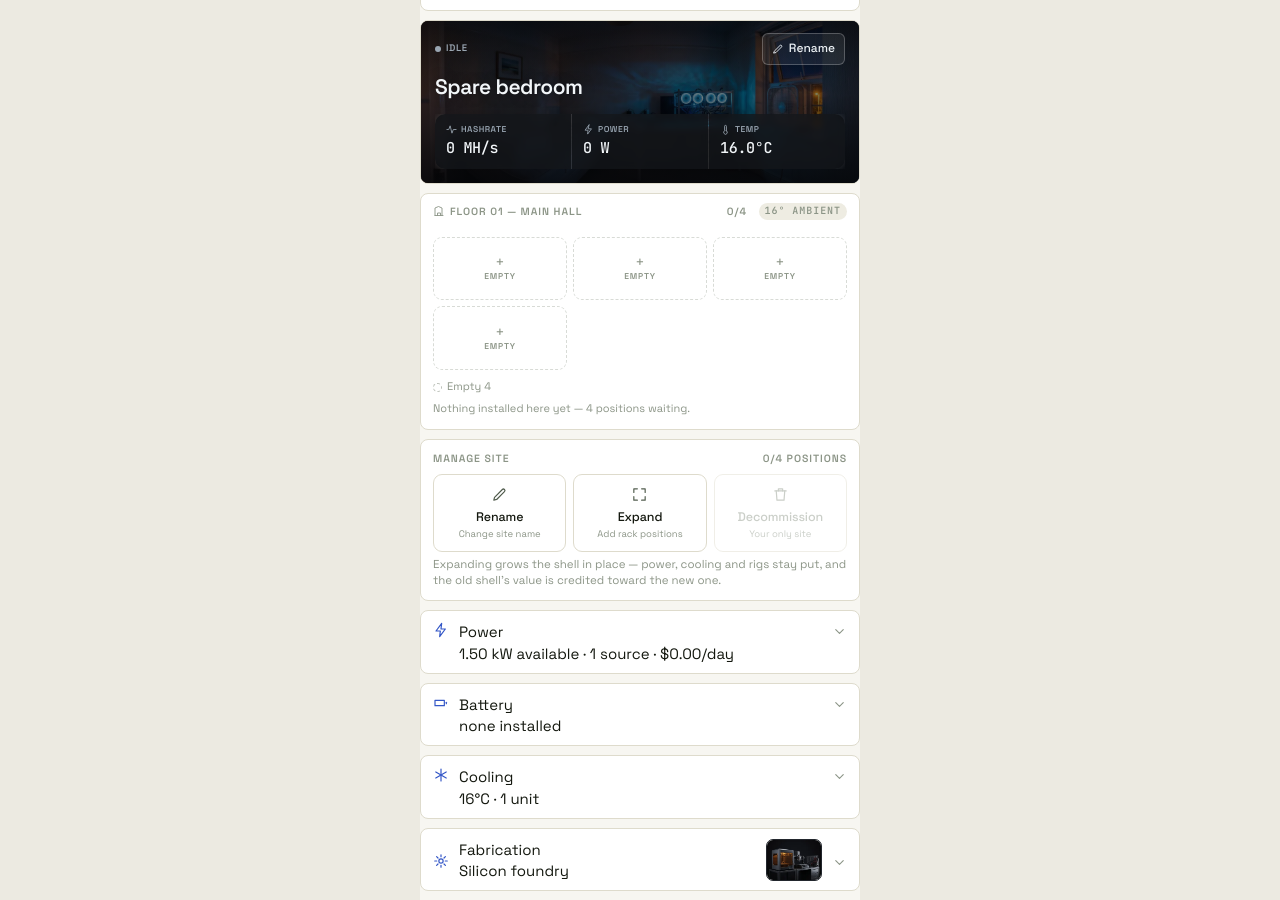
Test: SitesView › Fabrication › once at the top tier, the picker explains there is nothing higher instead of showing an empty sheet
(page scrolled)
Click the button with class "rig-hd" showing "Fabrication Silicon foundry" at (500, 849), box [421, 828, 859, 890]
(page scrolled)
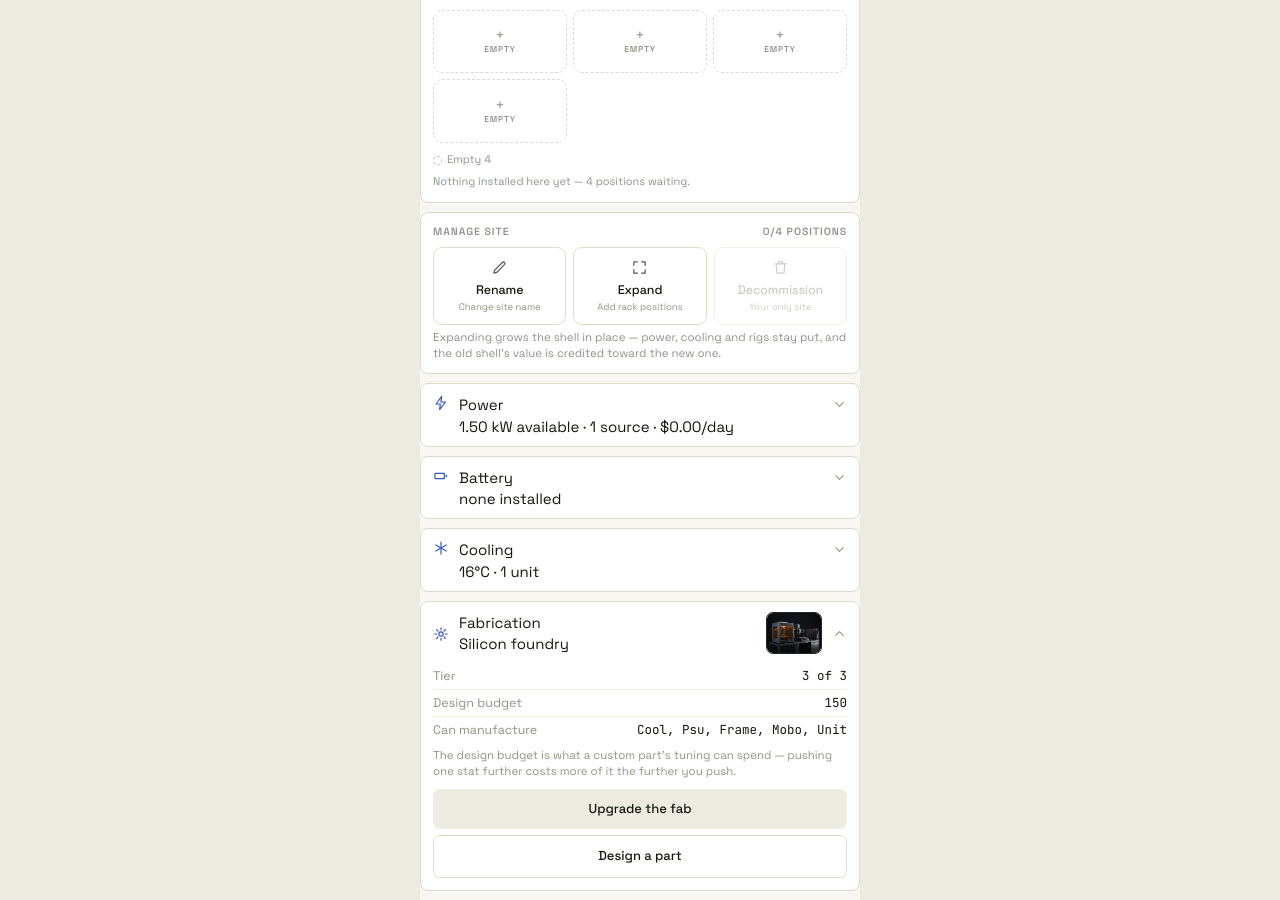
Click the button "Upgrade the fab" at (640, 809), box [433, 789, 847, 829]
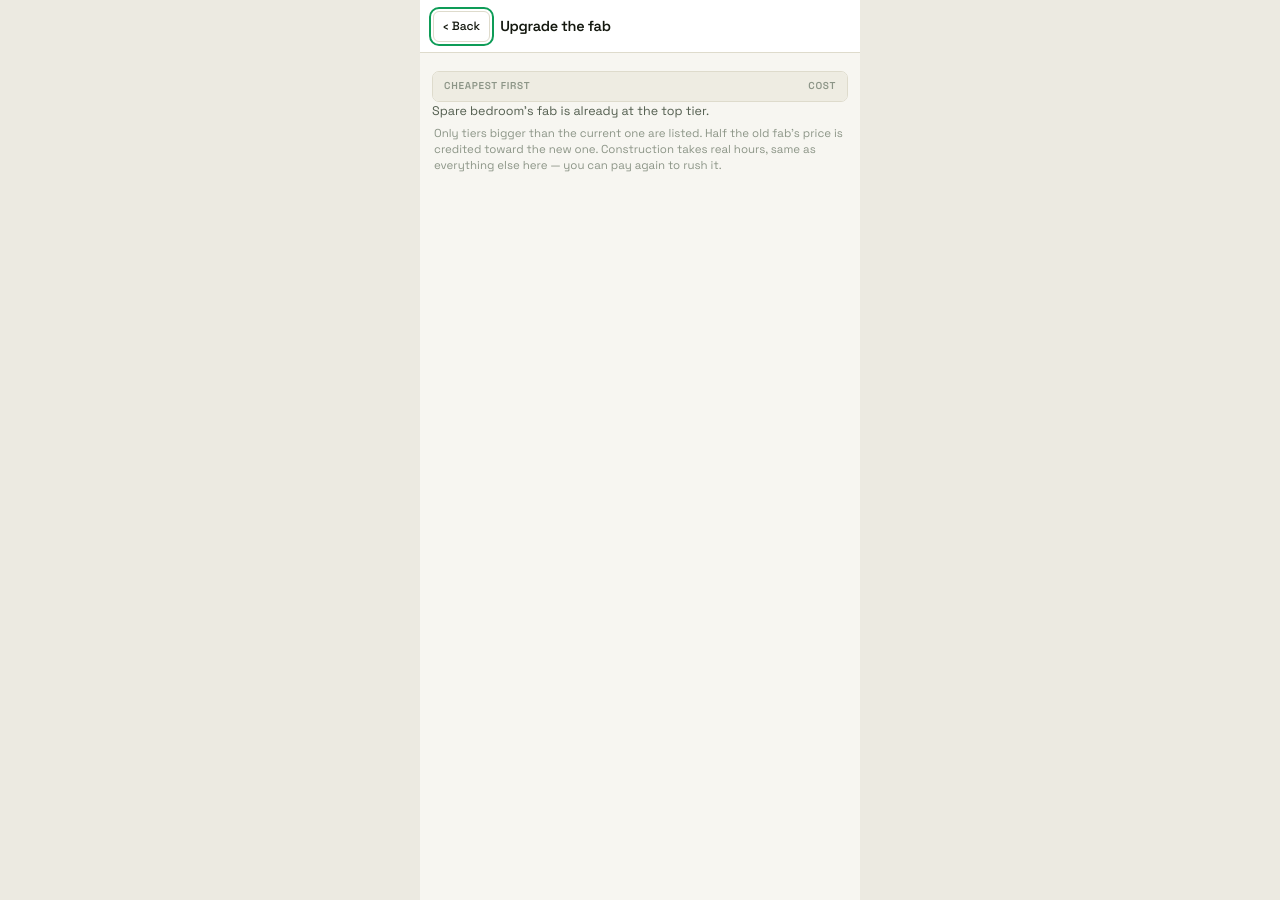
Expected: the text "already at the top tier" is shown, [432, 103, 709, 119]
